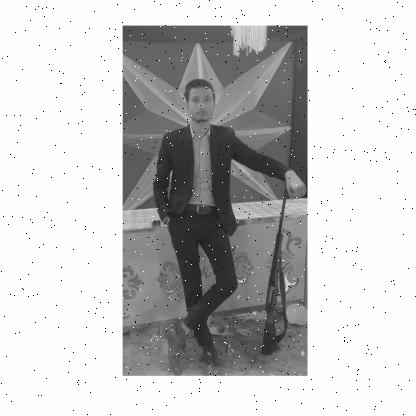rifle: (260, 177, 294, 357)
